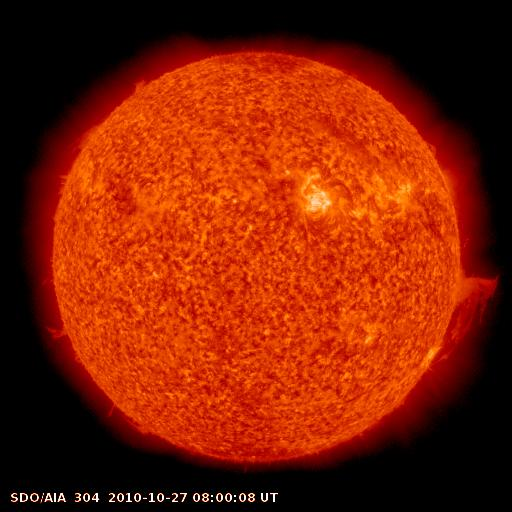prominence: (418, 266, 512, 373), (102, 391, 159, 443), (57, 119, 113, 162), (33, 312, 87, 356), (410, 127, 454, 171), (124, 68, 156, 102)
